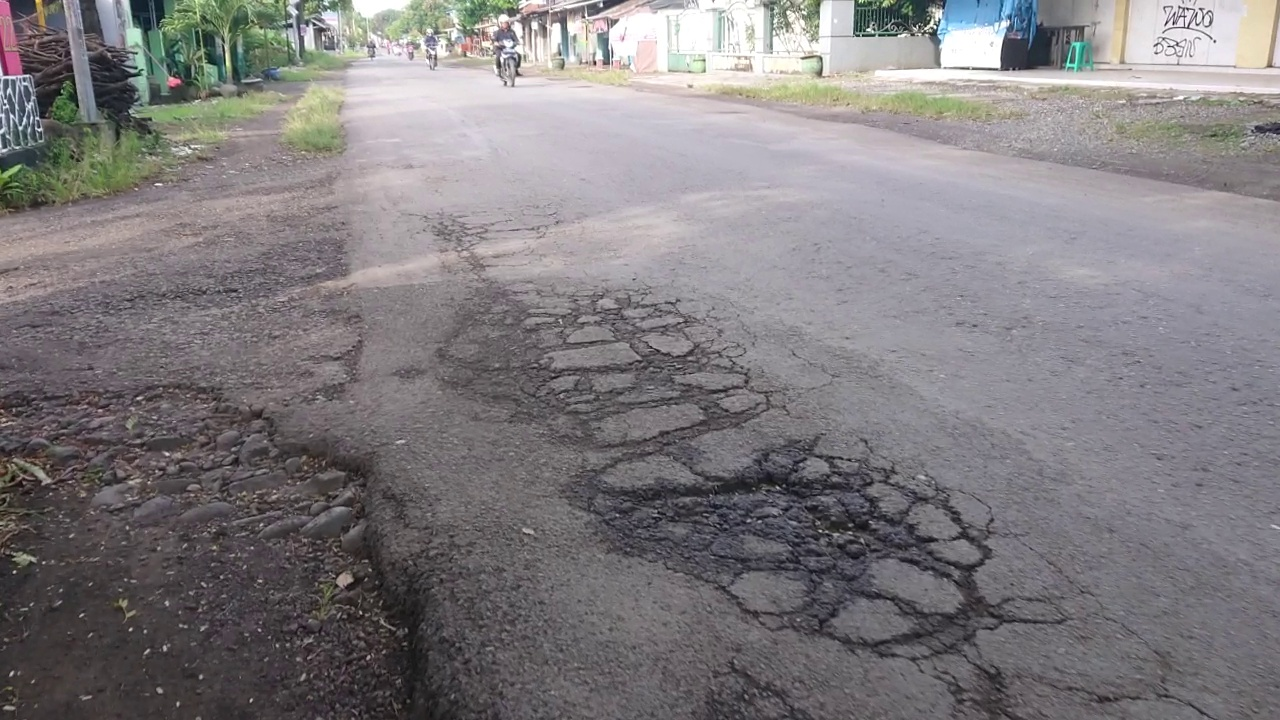Retak: (487, 287, 968, 695)
